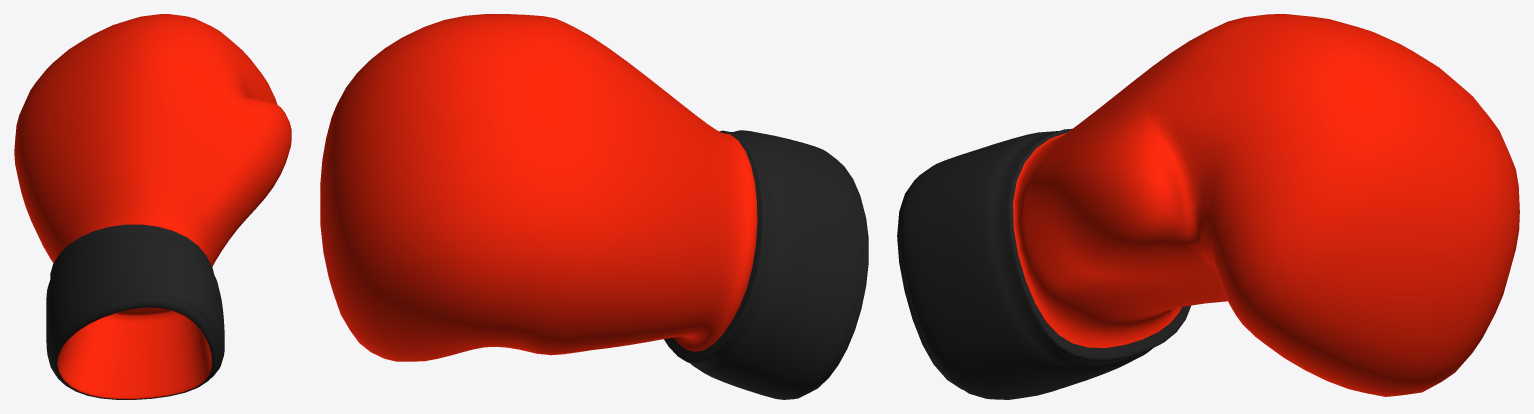
The model's file is Boxing_Hand_Left_Hit_Anim.fbx.
The picture shows the model from 3 angles, left to right: view 1: azimuth 30°, elevation 25°; view 2: azimuth 150°, elevation 25°; view 3: azimuth 270°, elevation 25°; orthographic projection. The views are drawn at different scales.
Parts seen in each view (by area): view 1: Boxing_Hand_Left; view 2: Boxing_Hand_Left; view 3: Boxing_Hand_Left.
Boxes of the visible parts, left/top/right/bottom form: Boxing_Hand_Left: left=14, top=14, right=291, bottom=399; Boxing_Hand_Left: left=320, top=14, right=868, bottom=399; Boxing_Hand_Left: left=897, top=14, right=1519, bottom=399.
Size of the model in its own units: 2.54 by 2.35 by 3.
